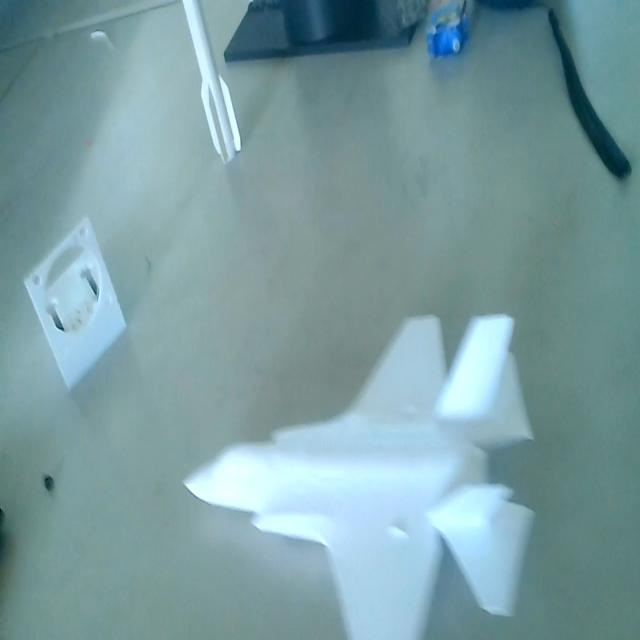Jet: (168, 311, 544, 640)
Rocket: (177, 0, 245, 169)
